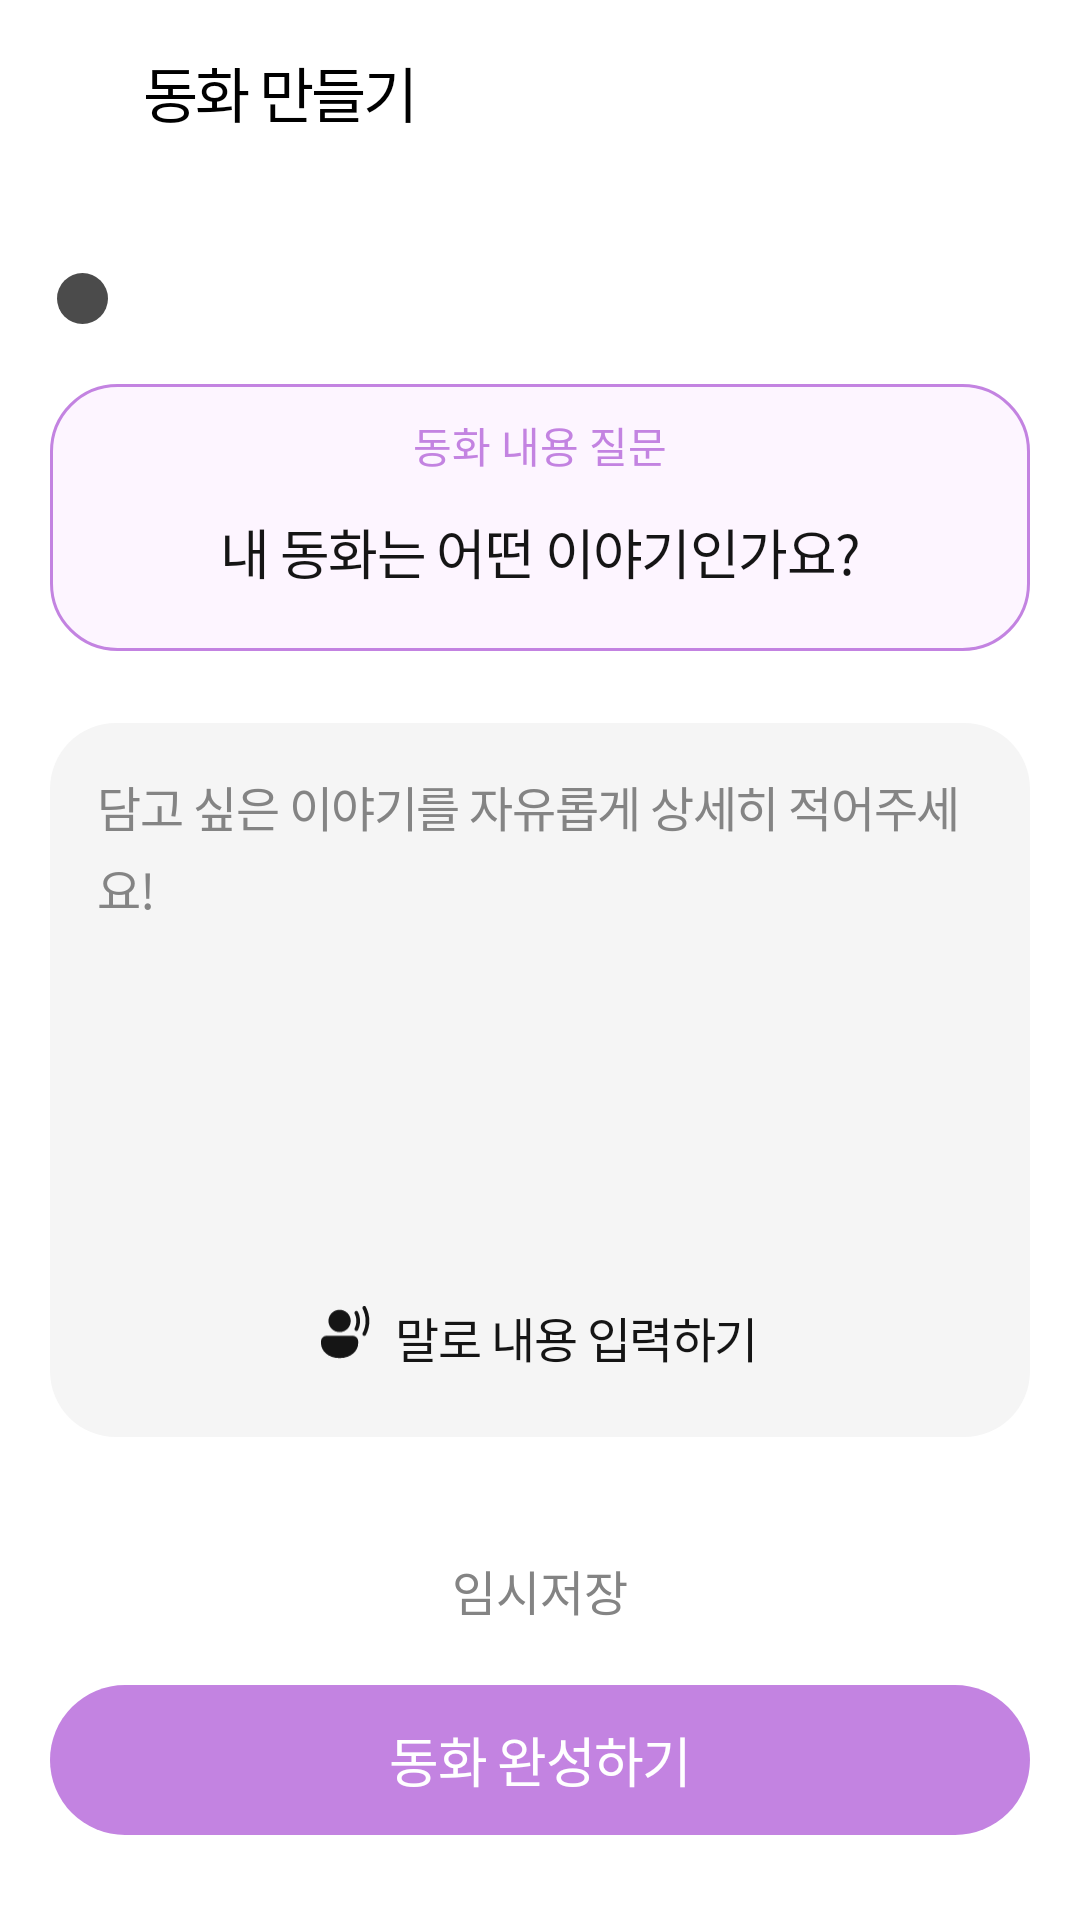

Where icons sit on this 1080w x 1920h app screen, as detection(x1, y1, x2, y2):
음성 입력: detection(321, 1306, 370, 1359)
